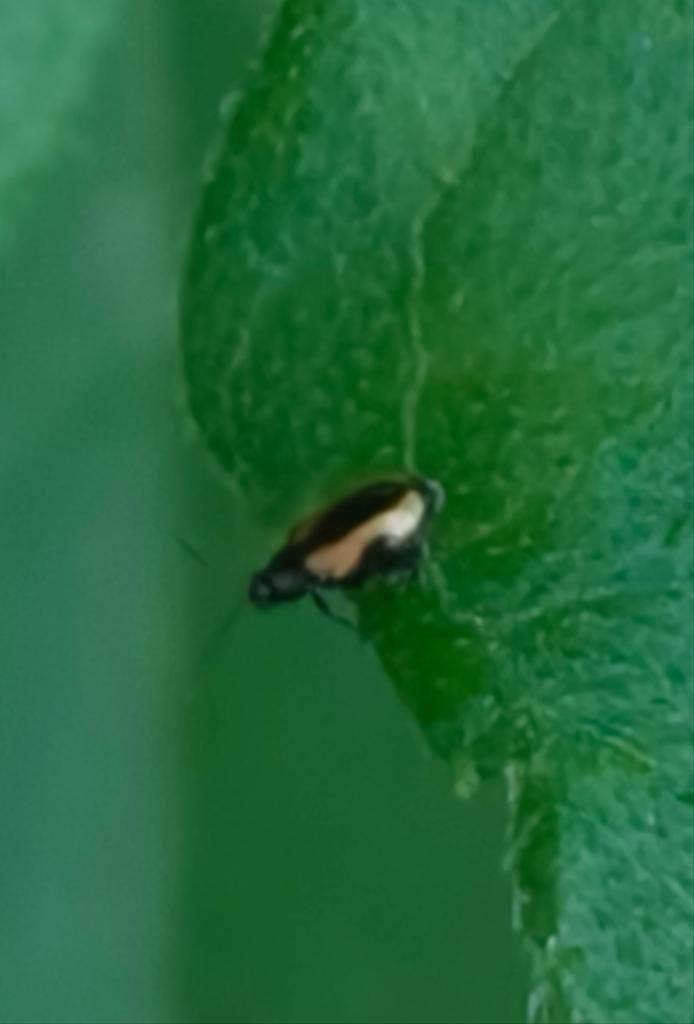flea_beetle: (158, 417, 462, 696)
